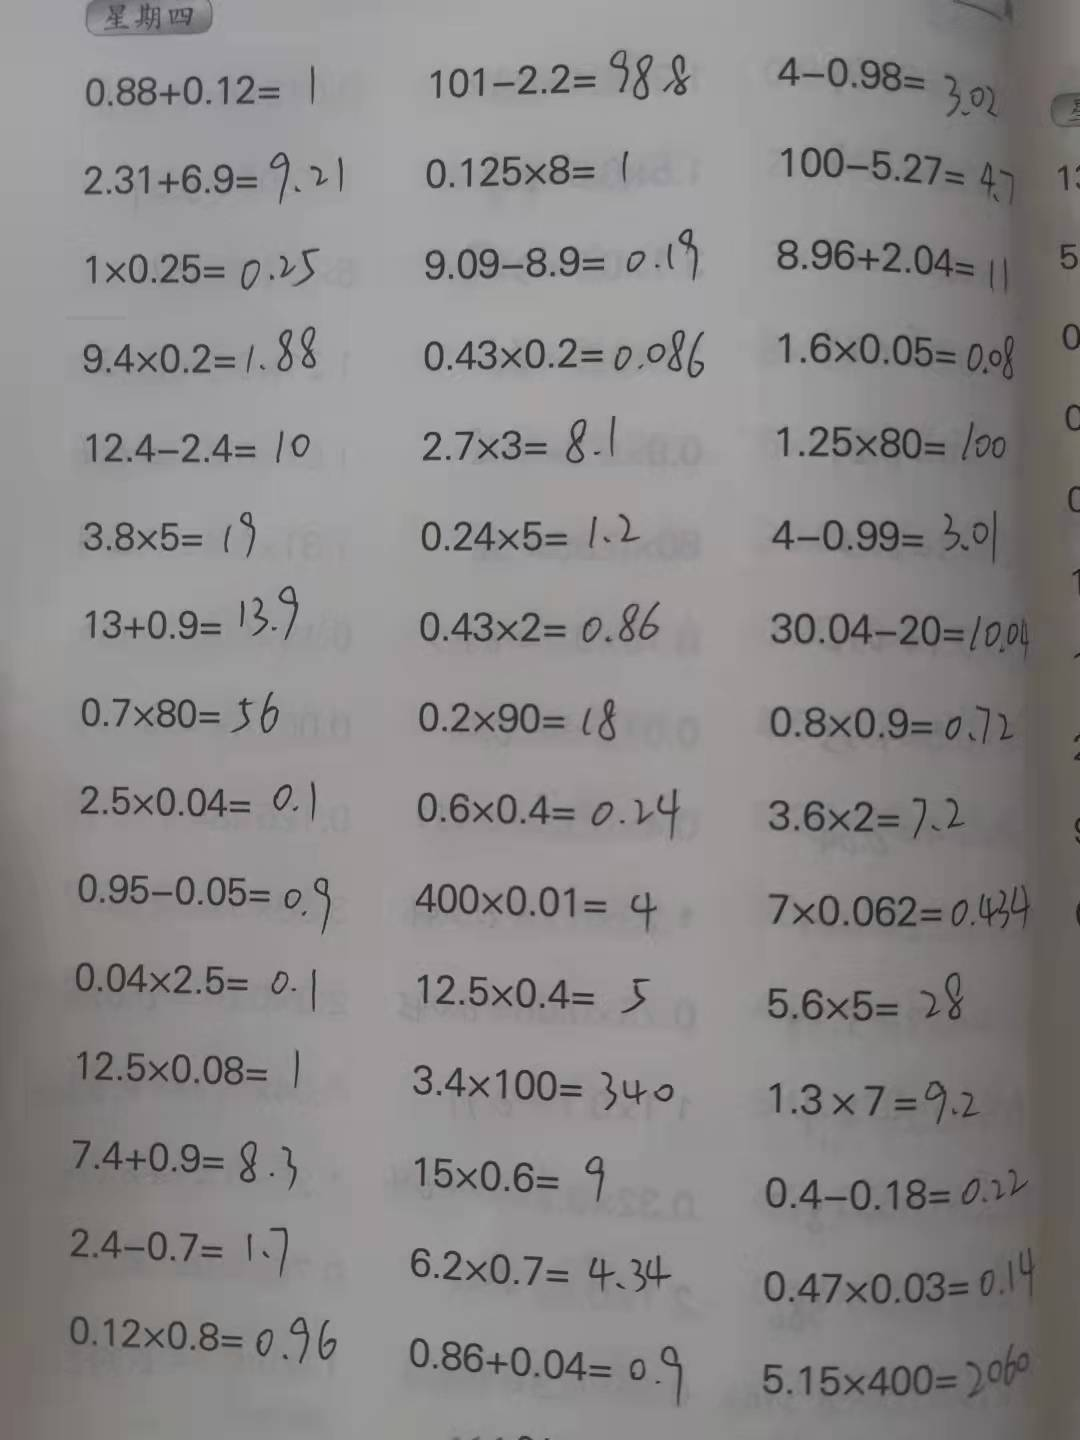equation: (398, 1327, 704, 1409), (417, 220, 714, 296), (71, 861, 345, 943), (408, 315, 718, 383), (772, 228, 1029, 304), (769, 47, 1013, 127), (778, 137, 1025, 216), (400, 1053, 707, 1114), (55, 1306, 346, 1370), (753, 1248, 1053, 1310), (763, 876, 1038, 943), (74, 145, 356, 210), (83, 582, 304, 664), (406, 780, 688, 843), (404, 1235, 679, 1299), (64, 951, 331, 1016), (757, 601, 1037, 662), (772, 320, 1022, 388), (60, 772, 332, 834), (757, 1343, 1043, 1401), (72, 55, 325, 120), (406, 961, 661, 1025), (60, 1215, 298, 1283), (426, 47, 705, 105), (762, 504, 1007, 570), (407, 589, 670, 650), (401, 874, 664, 935), (73, 320, 327, 383), (69, 241, 331, 302), (757, 697, 1027, 756), (763, 963, 978, 1037), (416, 132, 646, 200), (60, 1129, 310, 1191), (765, 413, 1017, 474), (750, 789, 987, 852), (83, 415, 319, 477), (414, 504, 657, 564), (410, 402, 627, 469), (761, 1064, 995, 1126), (69, 1042, 317, 1100), (404, 1142, 611, 1211), (404, 688, 636, 747), (756, 1167, 1037, 1215), (72, 500, 272, 563), (66, 688, 300, 736)
